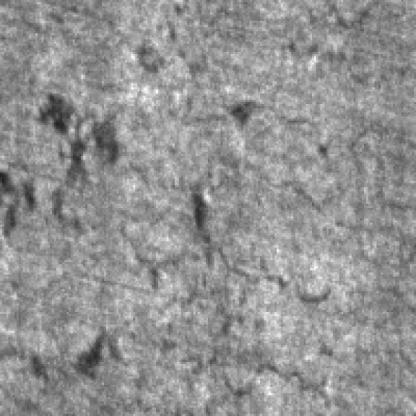crazing: (98, 92, 343, 237), (131, 252, 333, 412)
